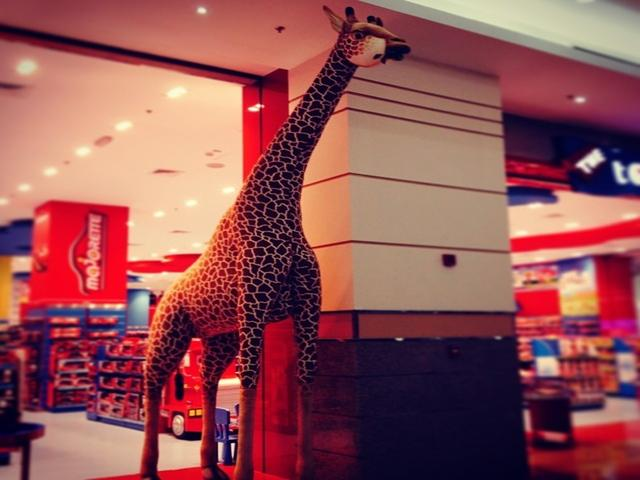giraffe: (80, 11, 426, 475)
